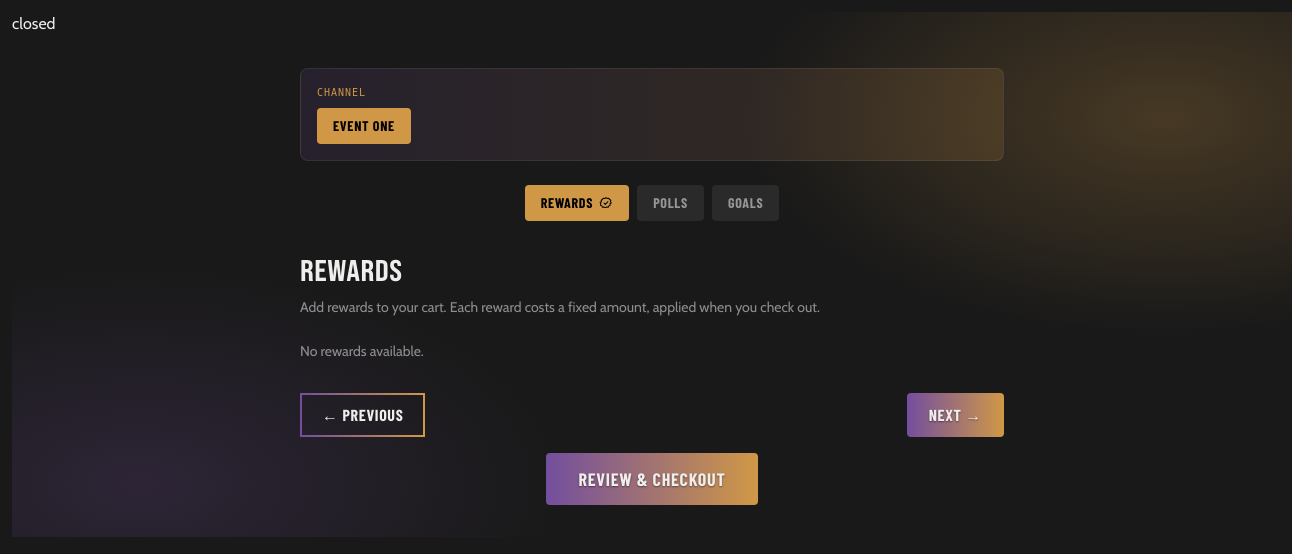
Test: DonateFlow (tabbed browse page) › cycles forward through categories via "next", wrapping back to rewards
expect the text "No rewards available." is shown: met, box [300,342,424,360]
Click the button "next →": (955, 415) [907,393,1004,437]
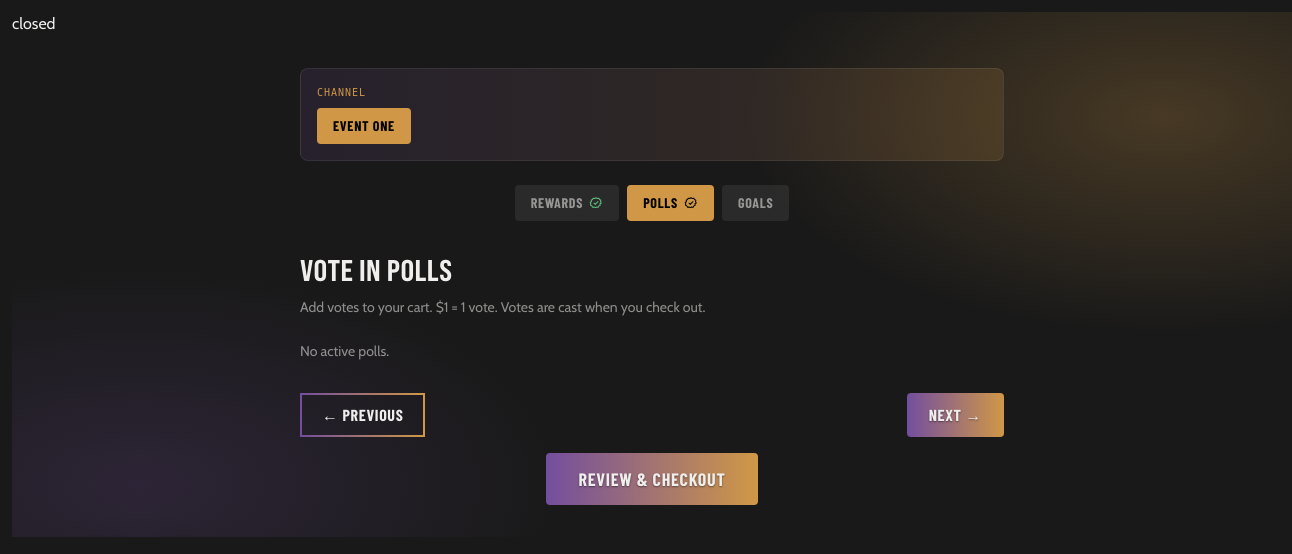
expect the text "No active polls." is shown: met, box [300,342,389,360]
Click the button "next →": (955, 415) [907,393,1004,437]
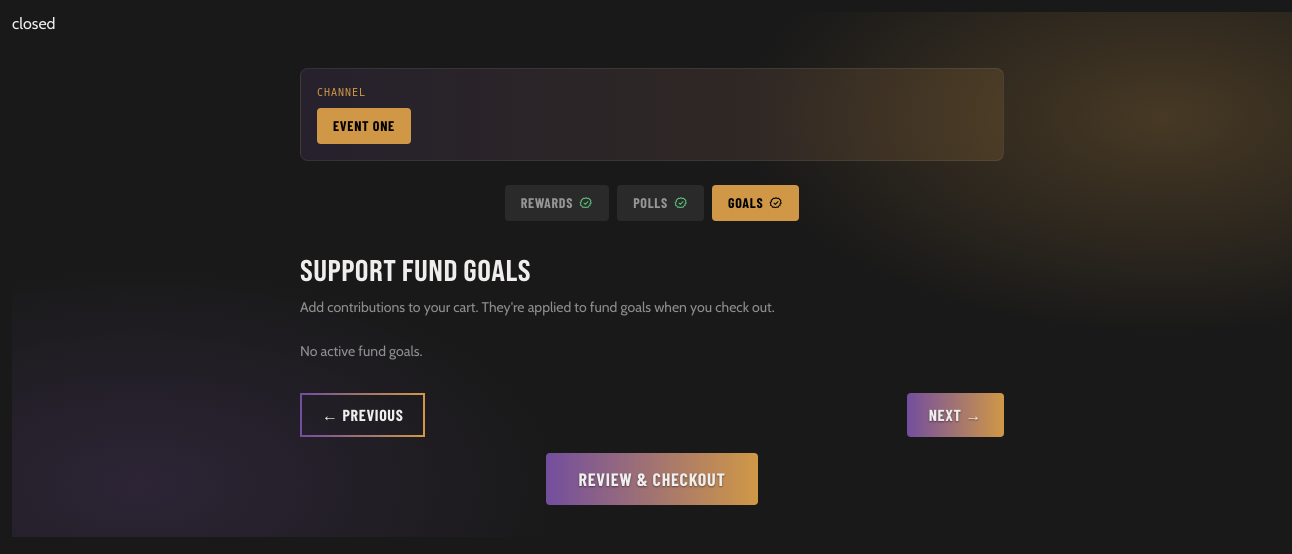
expect the text "No active fund goals." is shown: met, box [300,342,422,360]
Note: Wraps back to rewards instead of dead-ending on the last category.
Click the button "next →": (955, 415) [907,393,1004,437]
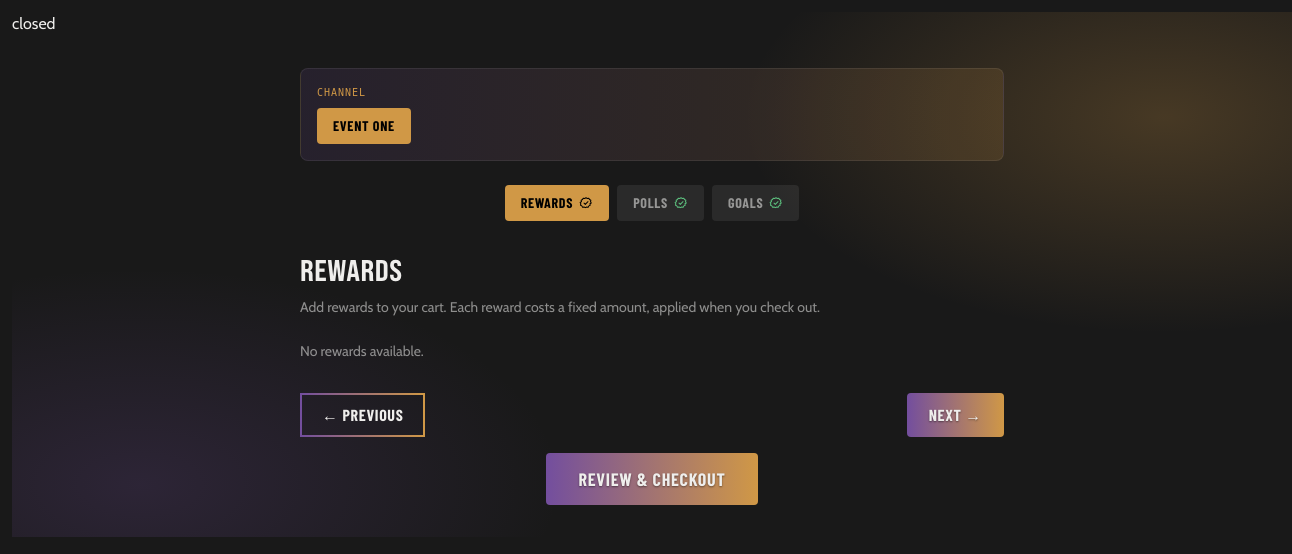
expect the text "No rewards available." is shown: met, box [300,342,424,360]
